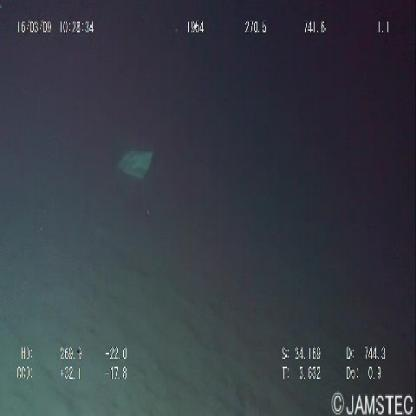Rác: (115, 137, 156, 191)
